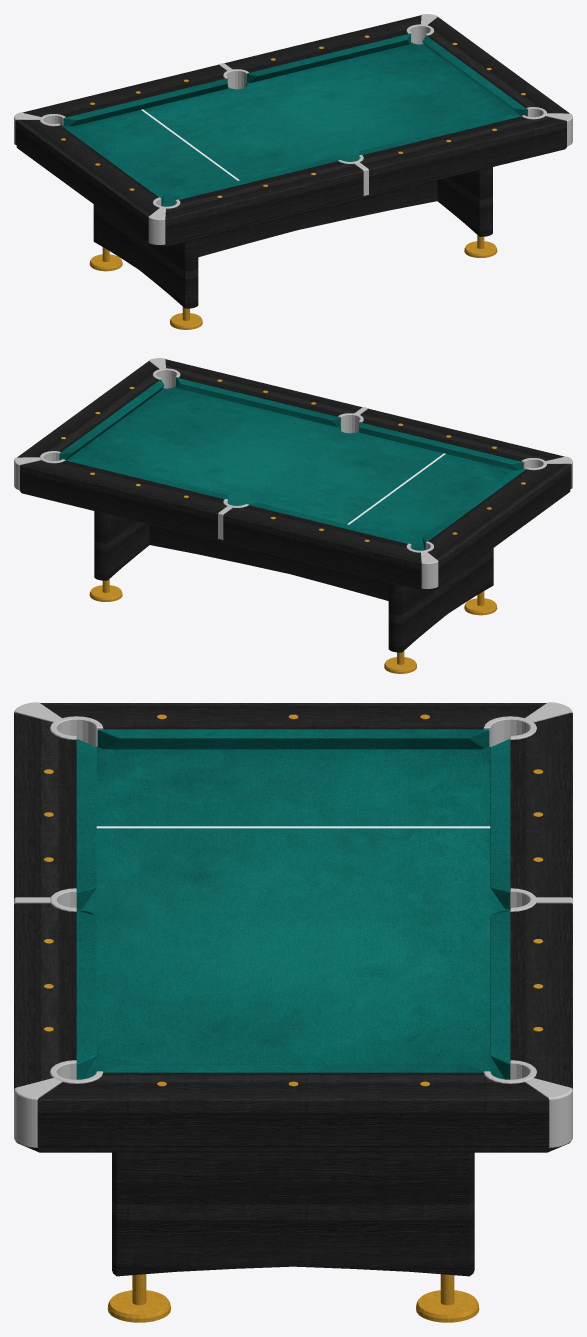
The model's file is Pool03.fbx.
3 renders of one model, top to bottom at view 1: azimuth 30°, elevation 25°; view 2: azimuth 150°, elevation 25°; view 3: azimuth 270°, elevation 25°, orthographic. The views are drawn at different scales.
Parts seen in each view (by area): view 1: U3DMesh; view 2: U3DMesh; view 3: U3DMesh.
Boxes of the visible parts, x1,y1,x2,y2 form: U3DMesh: (14, 14, 572, 329); U3DMesh: (14, 358, 572, 673); U3DMesh: (14, 702, 572, 1322).
Bounding box in the file's own units: 2.63 × 0.8409 × 1.57.
